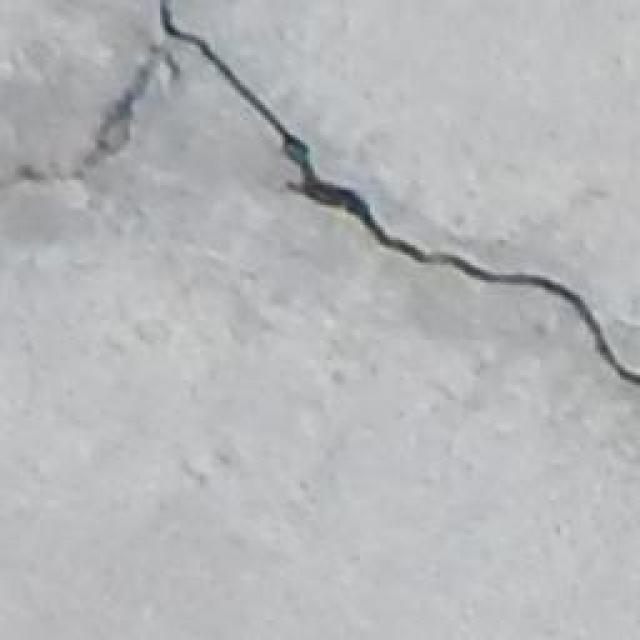concrete-crack: (4, 0, 640, 393)
